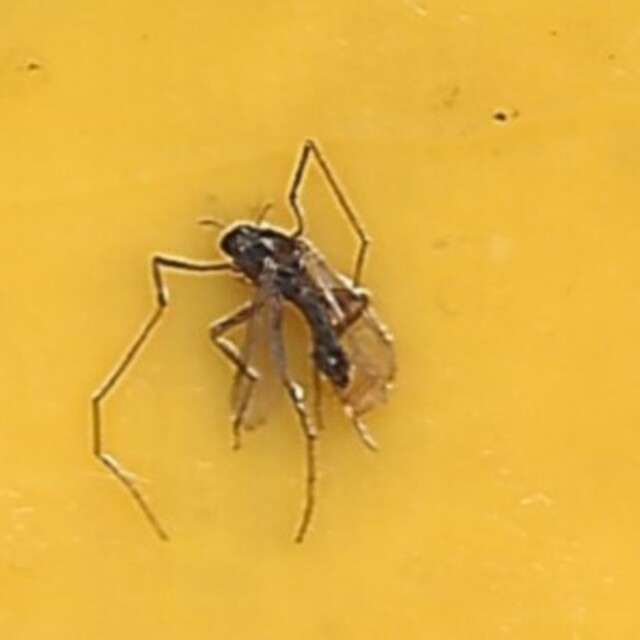Nematocera: (215, 200, 425, 440)
